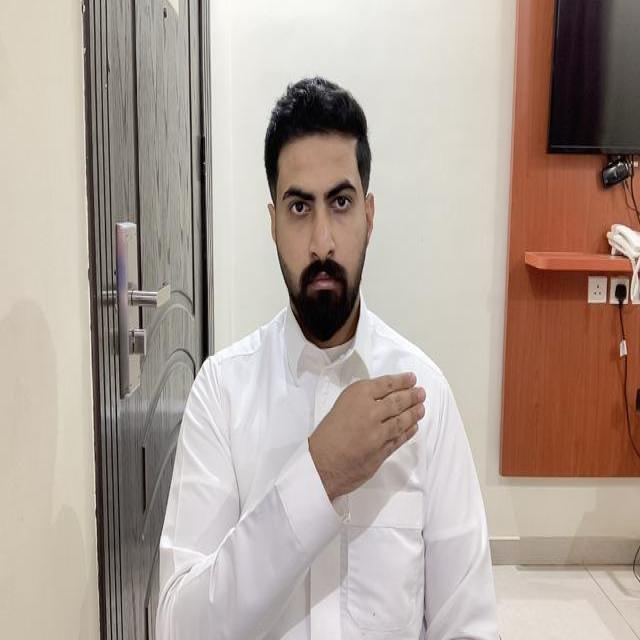result: (308, 369, 426, 502)
